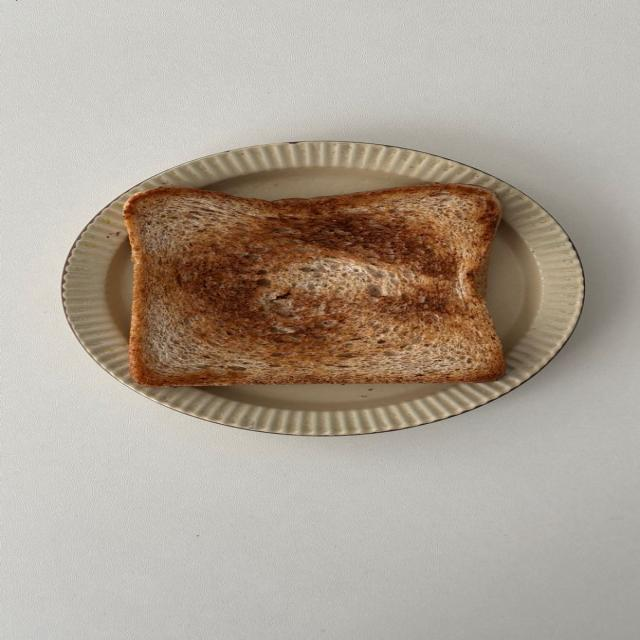toast bread: (123, 183, 503, 386)
